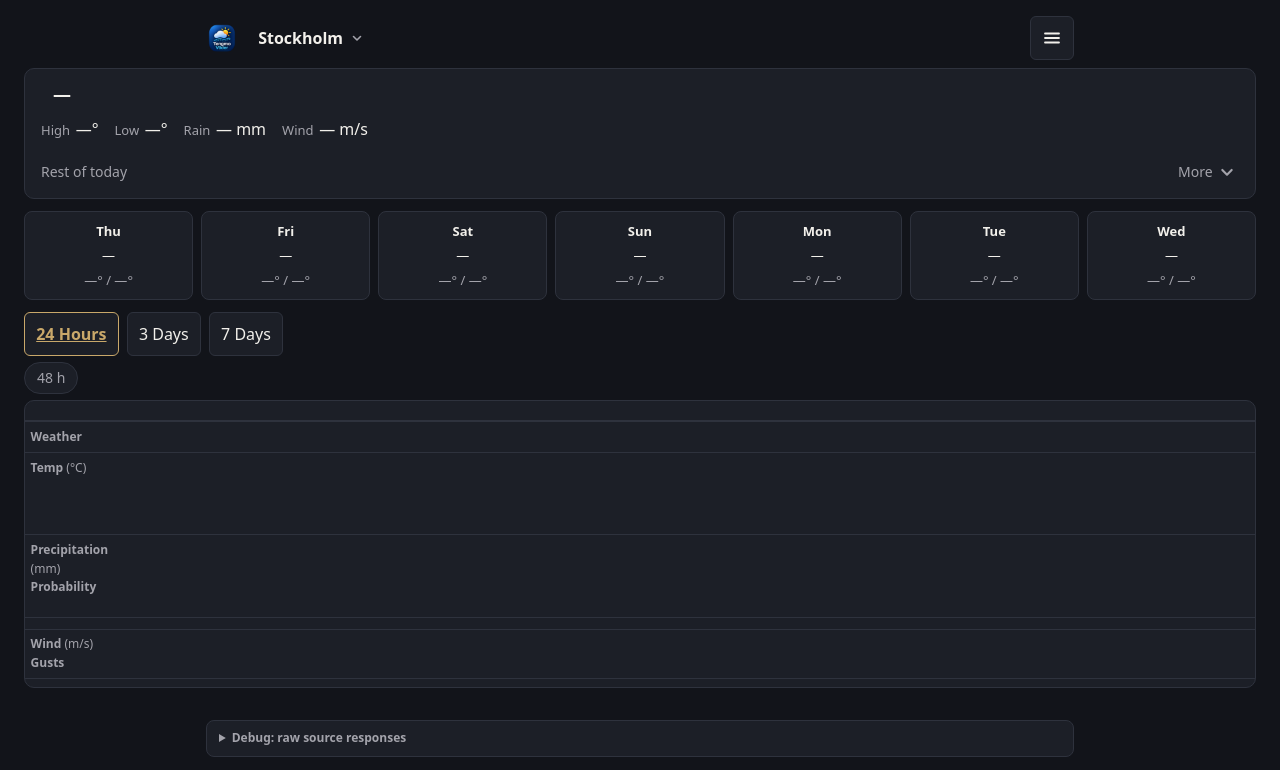
Test: Header overflow menu › states the current theme and toggles it, closing the menu
The image size is (1280, 770).
Click the button named "Menu" at (1052,38), box [1030,16,1074,60]
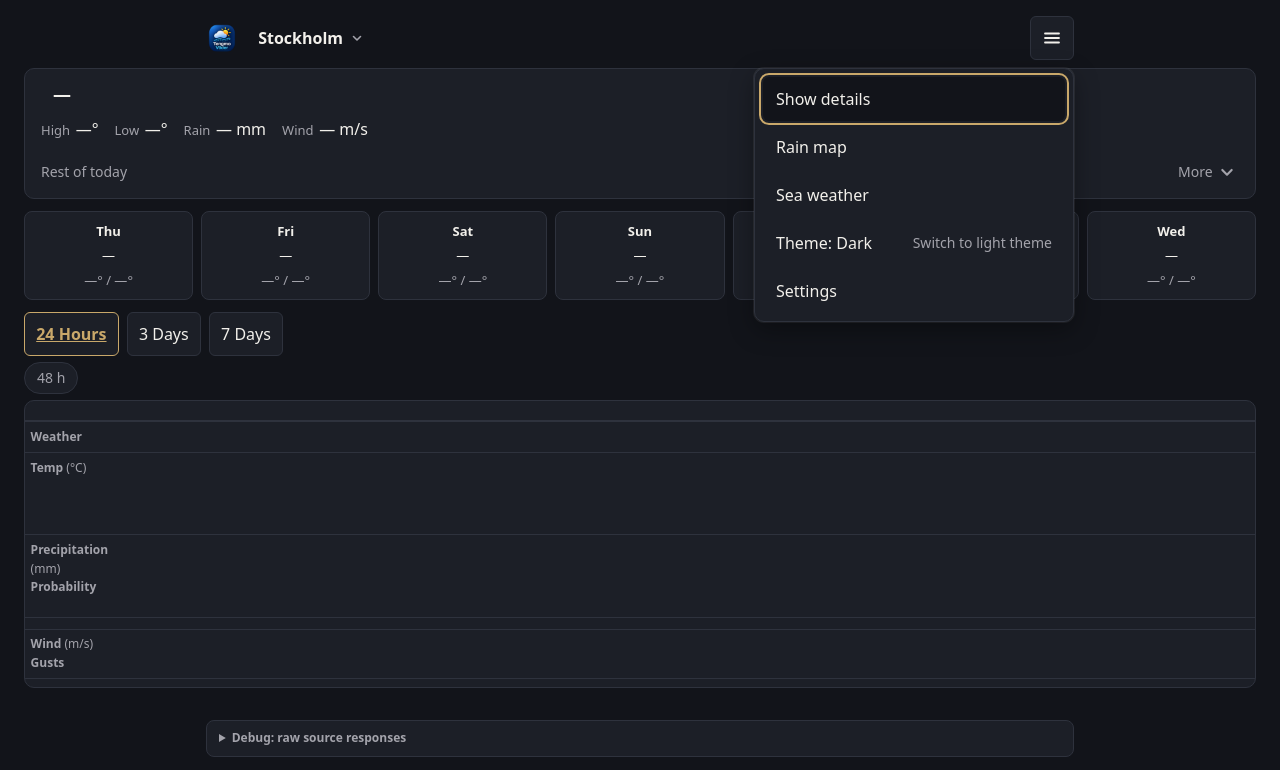
Click the menu item "Theme: Dark Switch to light theme" at (914,243), box [763,221,1065,265]
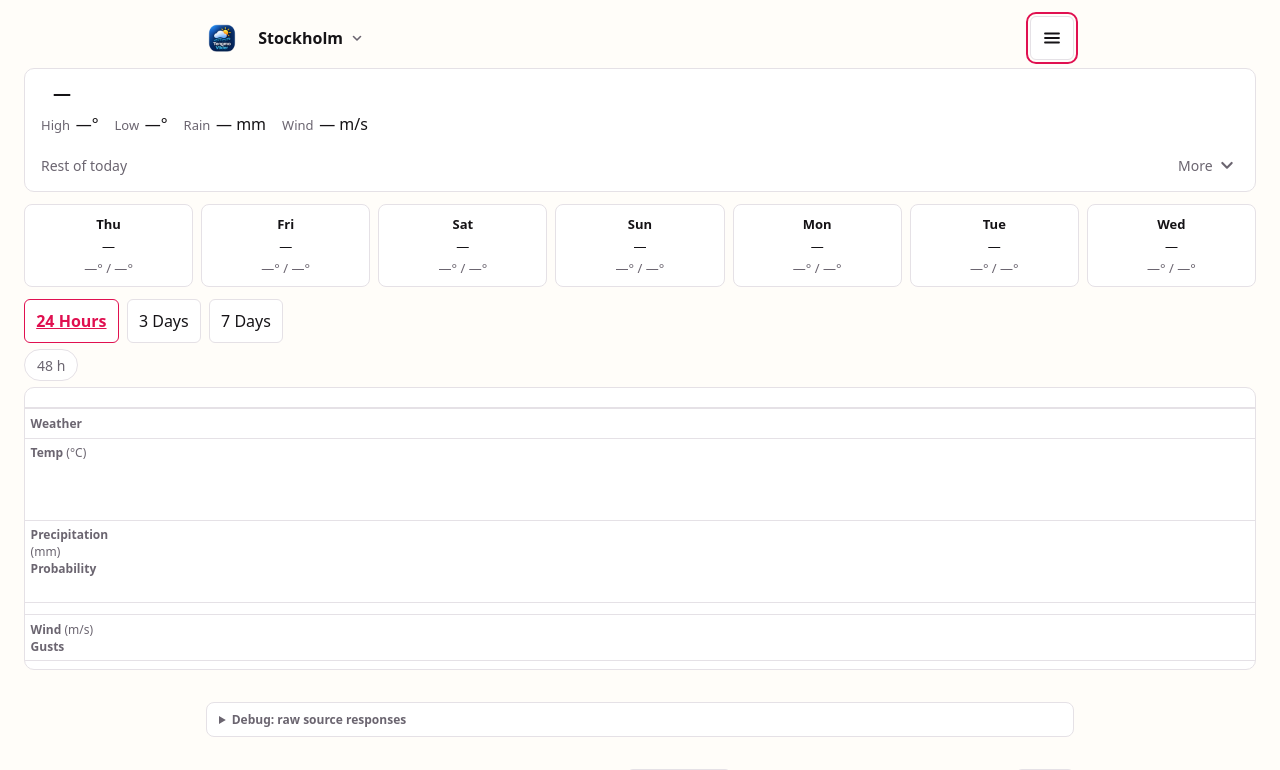
Expected: the menu is gone
